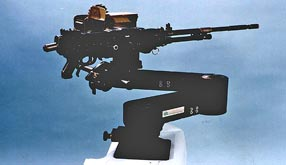rifle: (46, 5, 261, 153)
